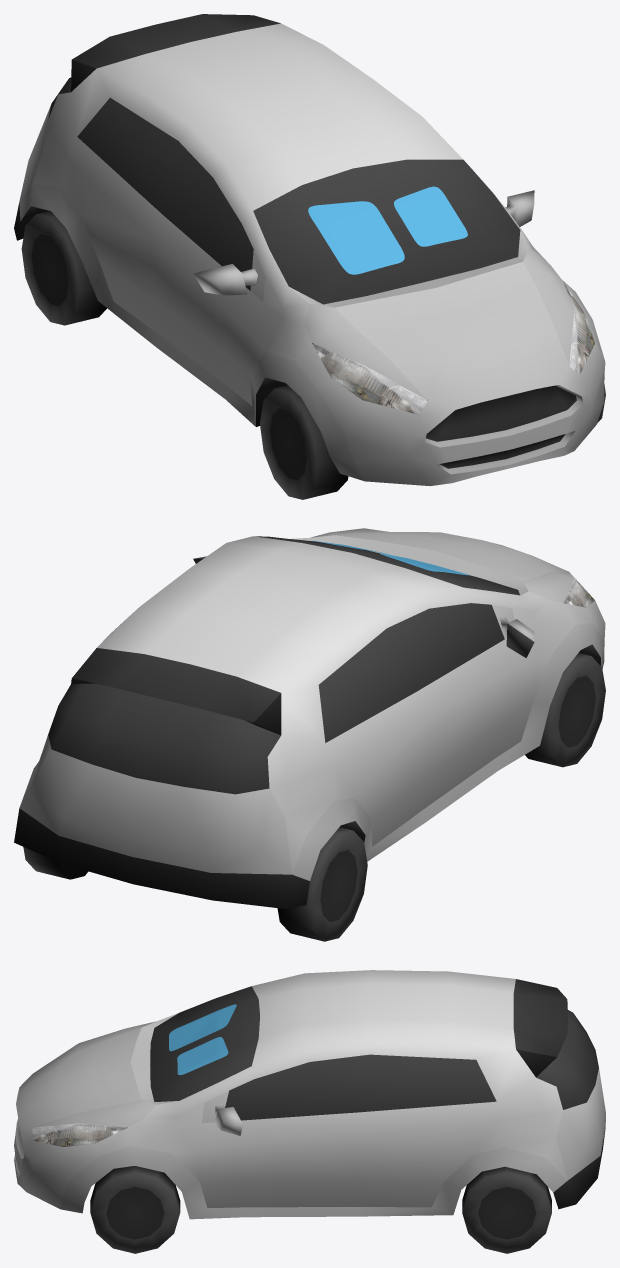
The model's file is Car.fbx.
3 renders of one model, top to bottom at view 1: azimuth 30°, elevation 25°; view 2: azimuth 150°, elevation 25°; view 3: azimuth 270°, elevation 25°, orthographic. The views are drawn at different scales.
Visible parts, largest first — view 1: Plane, Plane.001; view 2: Plane; view 3: Plane, Plane.001.
Part boxes in pixels (box(x1,y1,x2,y2)): Plane: box(14, 14, 605, 499); Plane.001: box(308, 186, 467, 274); Plane: box(14, 528, 605, 941); Plane: box(14, 970, 605, 1253); Plane.001: box(169, 1004, 236, 1074).
Size of the model in its own units: 475 by 337 by 914.
2 materials, 1 textured.
